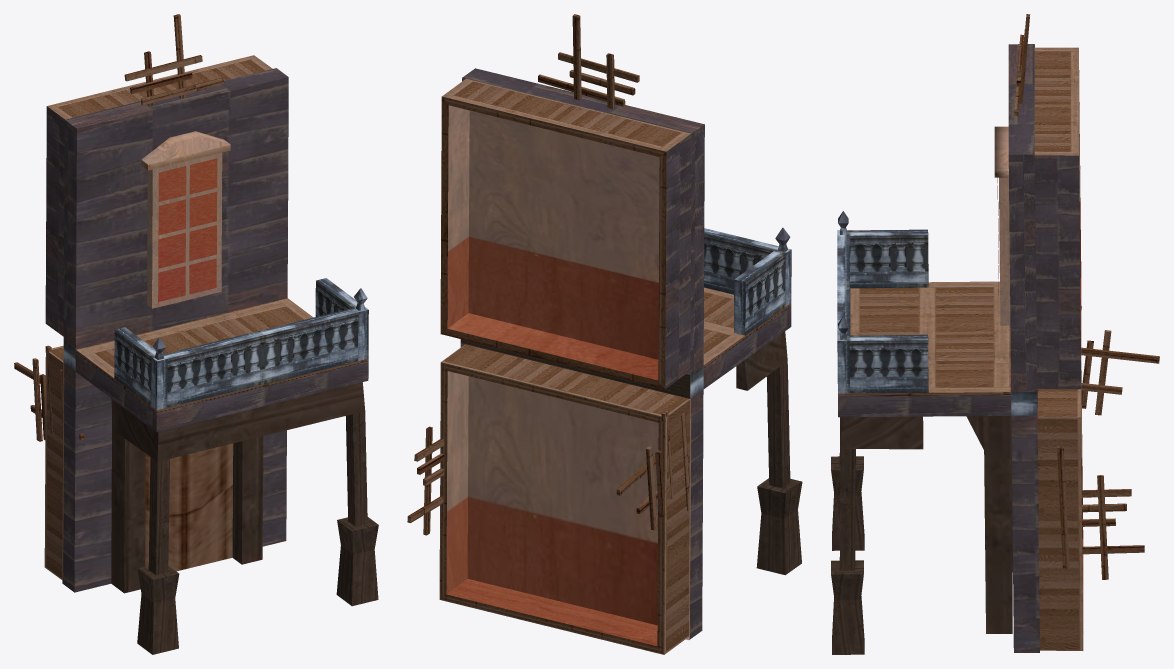
Rendered from spooky-tower-floating-cabin-03-art.glb.
The picture shows the model from 3 angles, left to right: view 1: azimuth 30°, elevation 25°; view 2: azimuth 150°, elevation 25°; view 3: azimuth 270°, elevation 25°; orthographic projection. The views are drawn at different scales.
Parts seen in each view (by area): view 1: Spooky_Tower_Floating_Cabin_03_Art; view 2: Spooky_Tower_Floating_Cabin_03_Art; view 3: Spooky_Tower_Floating_Cabin_03_Art.
Part boxes in pixels (x1,y1,x2,y2): Spooky_Tower_Floating_Cabin_03_Art: (14, 14, 378, 654); Spooky_Tower_Floating_Cabin_03_Art: (407, 14, 802, 654); Spooky_Tower_Floating_Cabin_03_Art: (831, 14, 1159, 654).
Bounding box in the file's own units: 2.93 × 6.78 × 3.46.
Materials: 2 (2 with a texture image).
